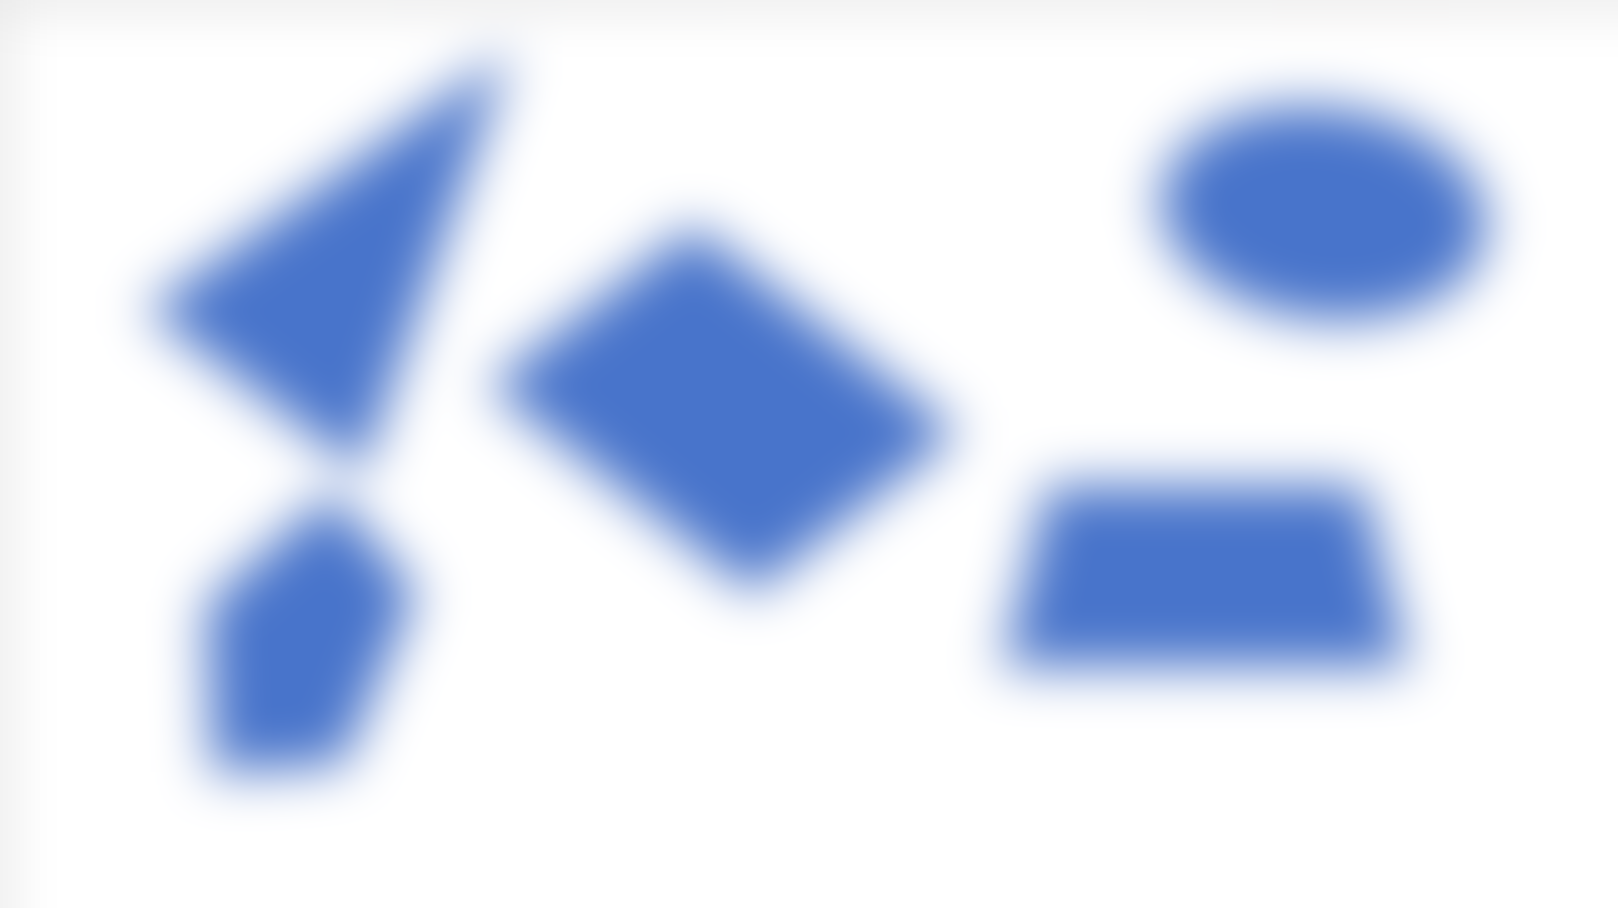circle: (1115, 52, 1529, 365)
parallelogram: (496, 216, 985, 611)
pentagon: (161, 485, 440, 788)
trapezium: (973, 449, 1455, 694)
triangle: (117, 34, 533, 458)
